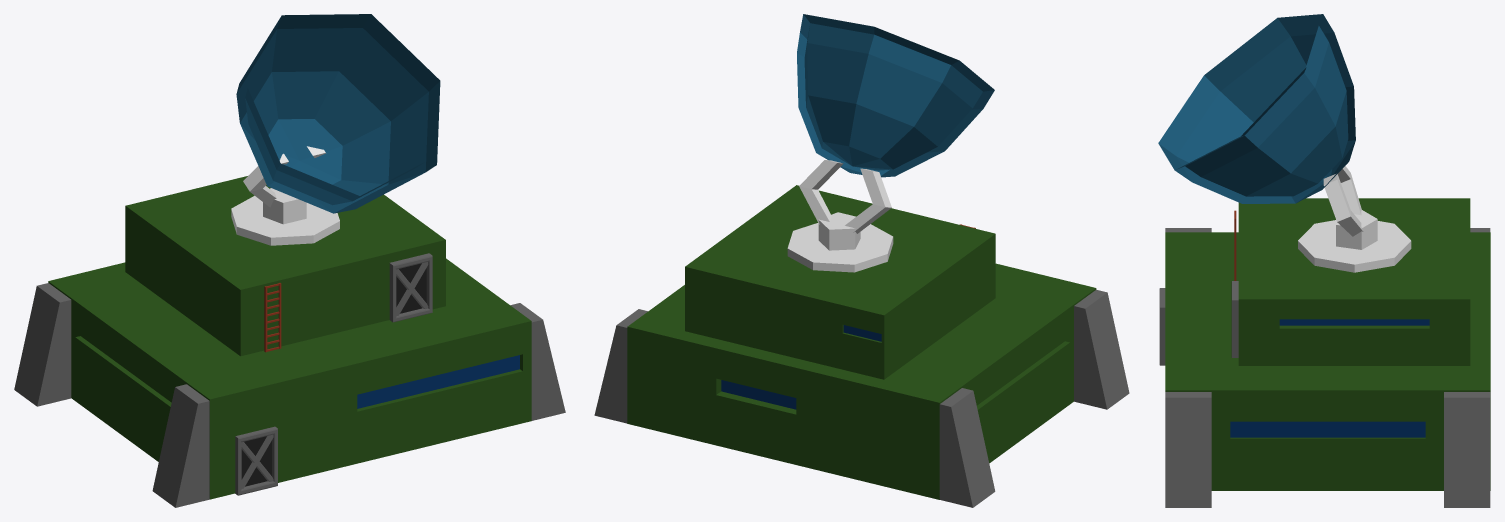
File: RadioStation.glb
3 renders of one model, left to right at view 1: azimuth 30°, elevation 25°; view 2: azimuth 150°, elevation 25°; view 3: azimuth 270°, elevation 25°, orthographic. The views are drawn at different scales.
Parts seen in each view (by area): view 1: RadioStation; view 2: RadioStation; view 3: RadioStation.
Part boxes in pixels (x1=…): RadioStation: x1=14, y1=14, x2=565, y2=507; RadioStation: x1=594, y1=14, x2=1129, y2=507; RadioStation: x1=1158, y1=14, x2=1490, y2=507.
Bounding box in the file's own units: 19.58 × 18.73 × 14.35.
